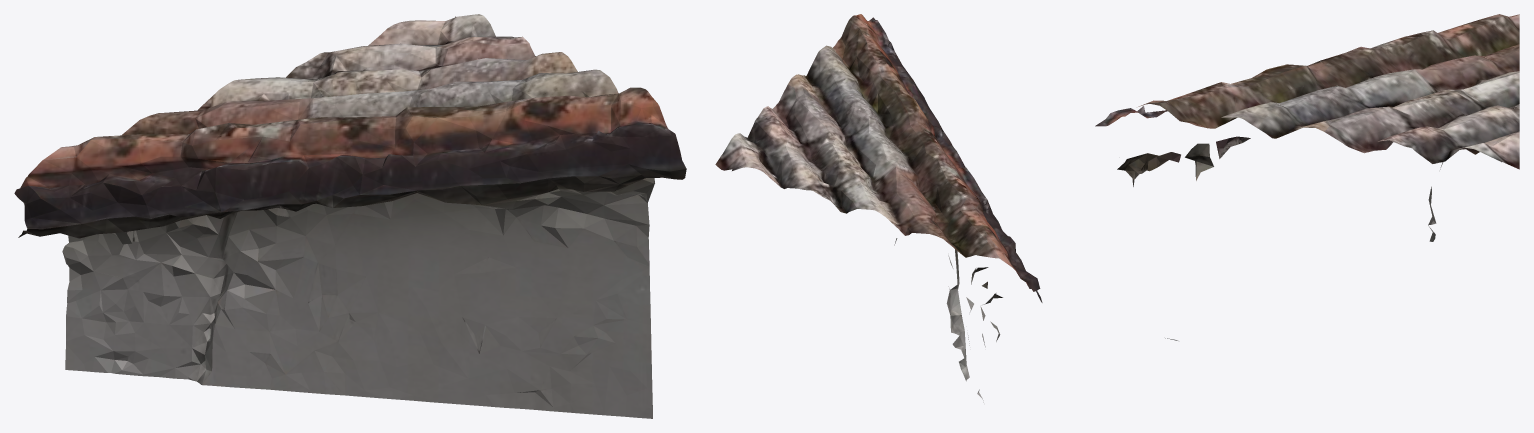
3 renders of one model, left to right at view 1: azimuth 30°, elevation 25°; view 2: azimuth 150°, elevation 25°; view 3: azimuth 270°, elevation 25°, orthographic. The views are drawn at different scales.
Size of the model in its own units: 1.67 by 1.18 by 1.52.
Materials: 3 (3 with a texture image).
